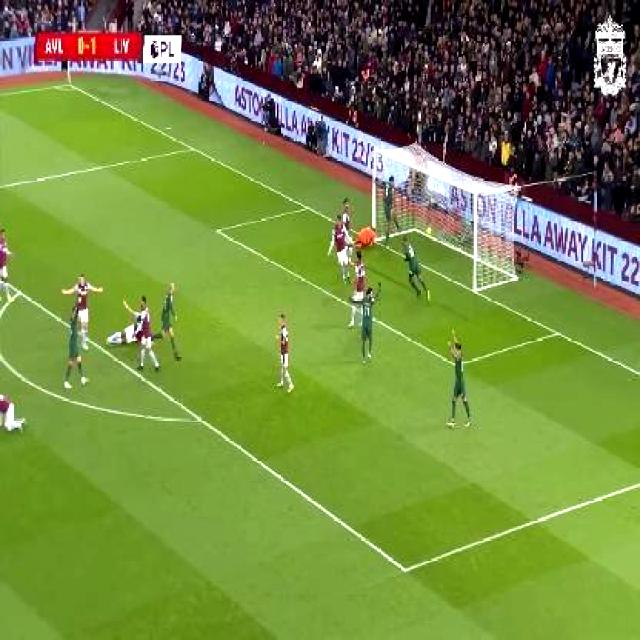bigarea_bottom_inner: (391, 548, 418, 589)
bigarea_top_outter: (185, 138, 200, 157)
bottom_arc_area_intersection: (189, 405, 211, 432)
corner: (56, 76, 78, 92)
smallarea_bottom_outter: (544, 319, 568, 346)
smallarea_top_inner: (206, 217, 226, 241)
smallarea_top_outter: (298, 195, 316, 217)
top_arc_area_intersection: (9, 280, 28, 303)
